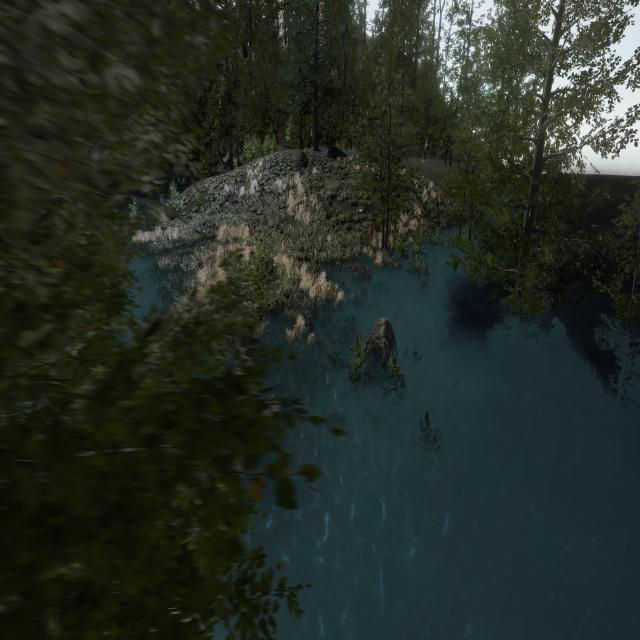Human: (304, 310, 319, 350)
